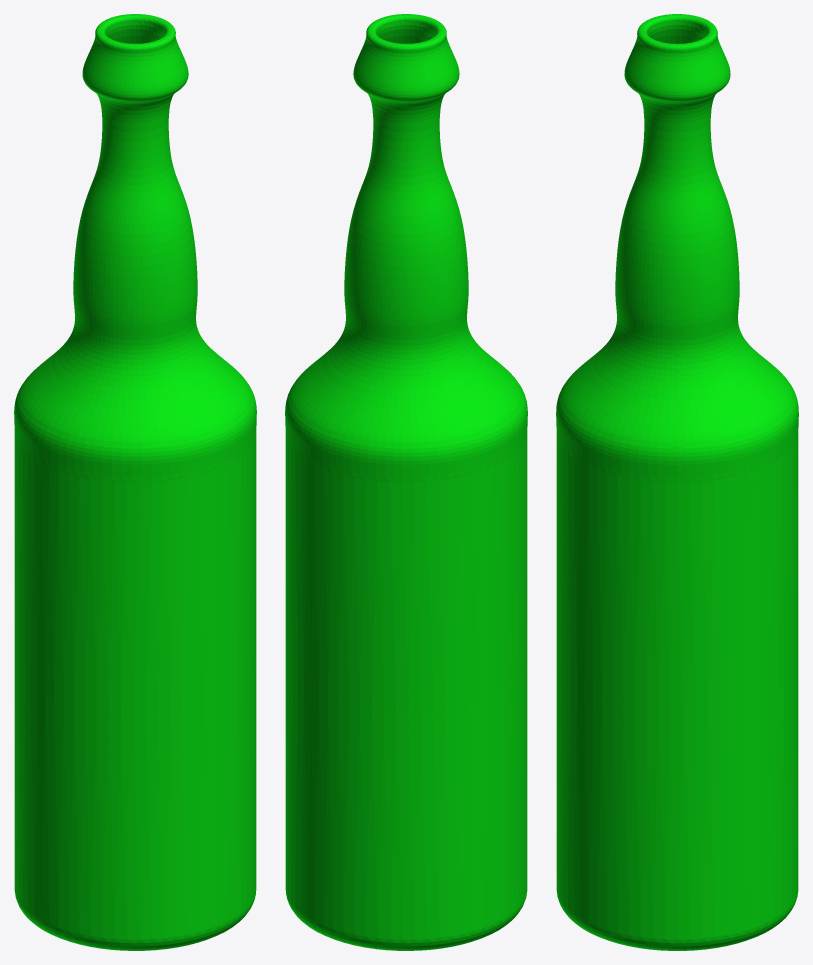
Rendered from BottleModel.dae.
3 renders of one model, left to right at view 1: azimuth 30°, elevation 25°; view 2: azimuth 150°, elevation 25°; view 3: azimuth 270°, elevation 25°, orthographic.
Parts seen in each view (by area): view 1: BottleModel; view 2: BottleModel; view 3: BottleModel.
Part boxes in pixels (bbox=[...]): BottleModel: bbox=[14, 14, 256, 950]; BottleModel: bbox=[285, 14, 527, 950]; BottleModel: bbox=[556, 14, 798, 950].
Bounding box in the file's own units: 0.0602 × 0.0602 × 0.24.
